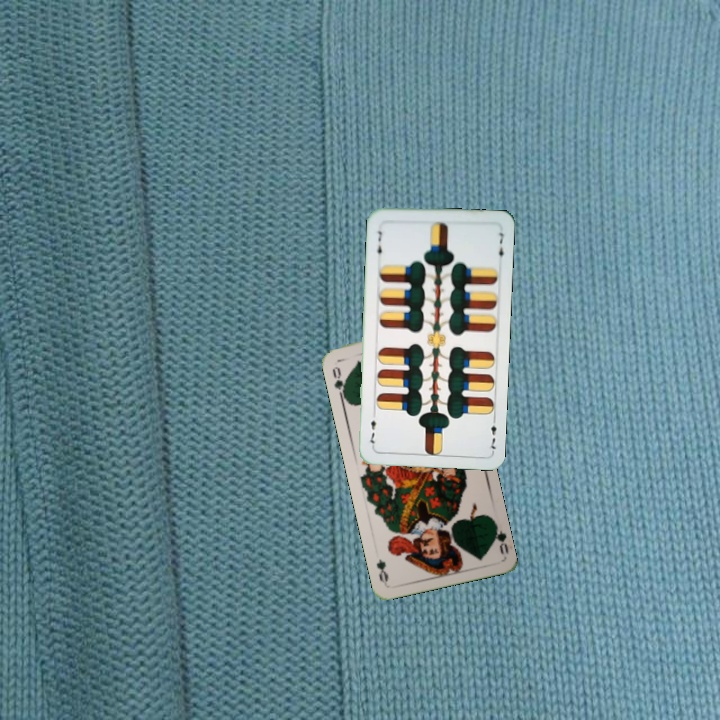E7: (485, 414, 499, 454), (372, 226, 384, 260)
GO: (488, 518, 511, 556), (328, 362, 349, 401)
